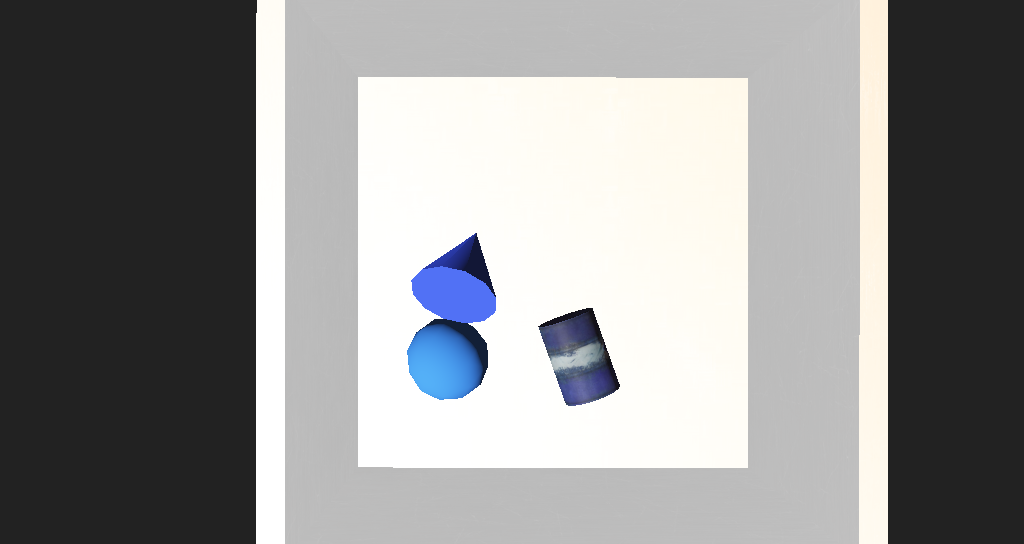cone: (492, 286, 559, 344)
cylinder: (384, 224, 478, 301)
sphere: (391, 293, 458, 336)
